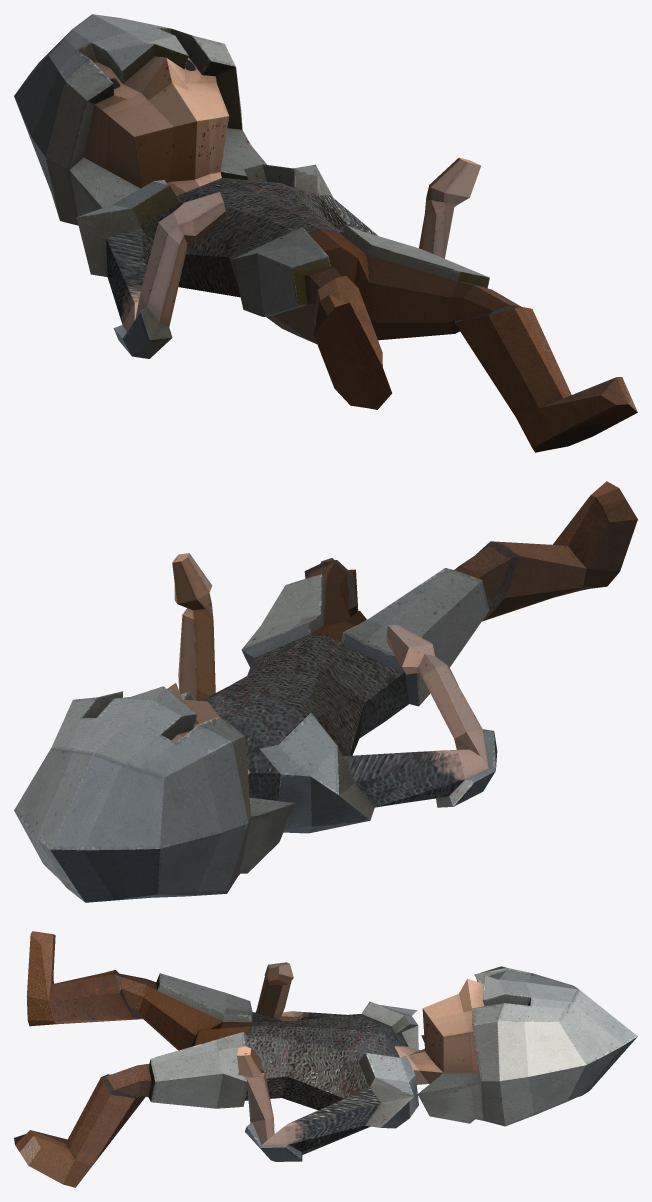
The model's file is Walk_Soldier_7.obj.
The picture shows the model from 3 angles, top to bottom: view 1: azimuth 30°, elevation 25°; view 2: azimuth 150°, elevation 25°; view 3: azimuth 270°, elevation 25°; orthographic projection. The views are drawn at different scales.
Visible parts, largest first — view 1: Soldado_LowPolySTD; view 2: Soldado_LowPolySTD; view 3: Soldado_LowPolySTD.
Part boxes in pixels (<box>): Soldado_LowPolySTD: <box>14,14,637,452</box>; Soldado_LowPolySTD: <box>14,481,637,902</box>; Soldado_LowPolySTD: <box>14,931,637,1187</box>.
Bounding box in the file's own units: 0.7518 × 0.478 × 1.61.
